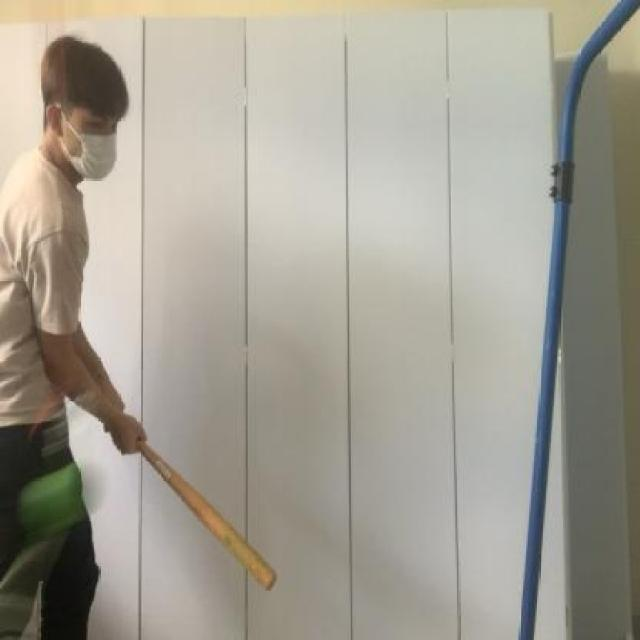baseball: (18, 456, 113, 535)
